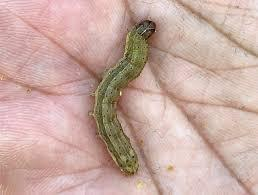fallarmy_worm: (87, 16, 158, 177)
